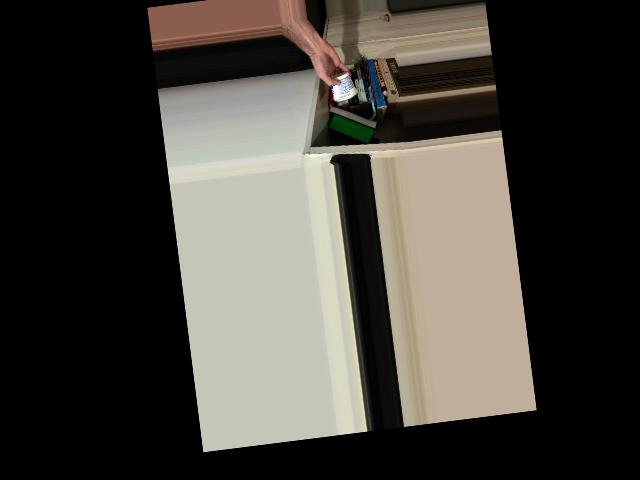cotage: (324, 63, 359, 104)
